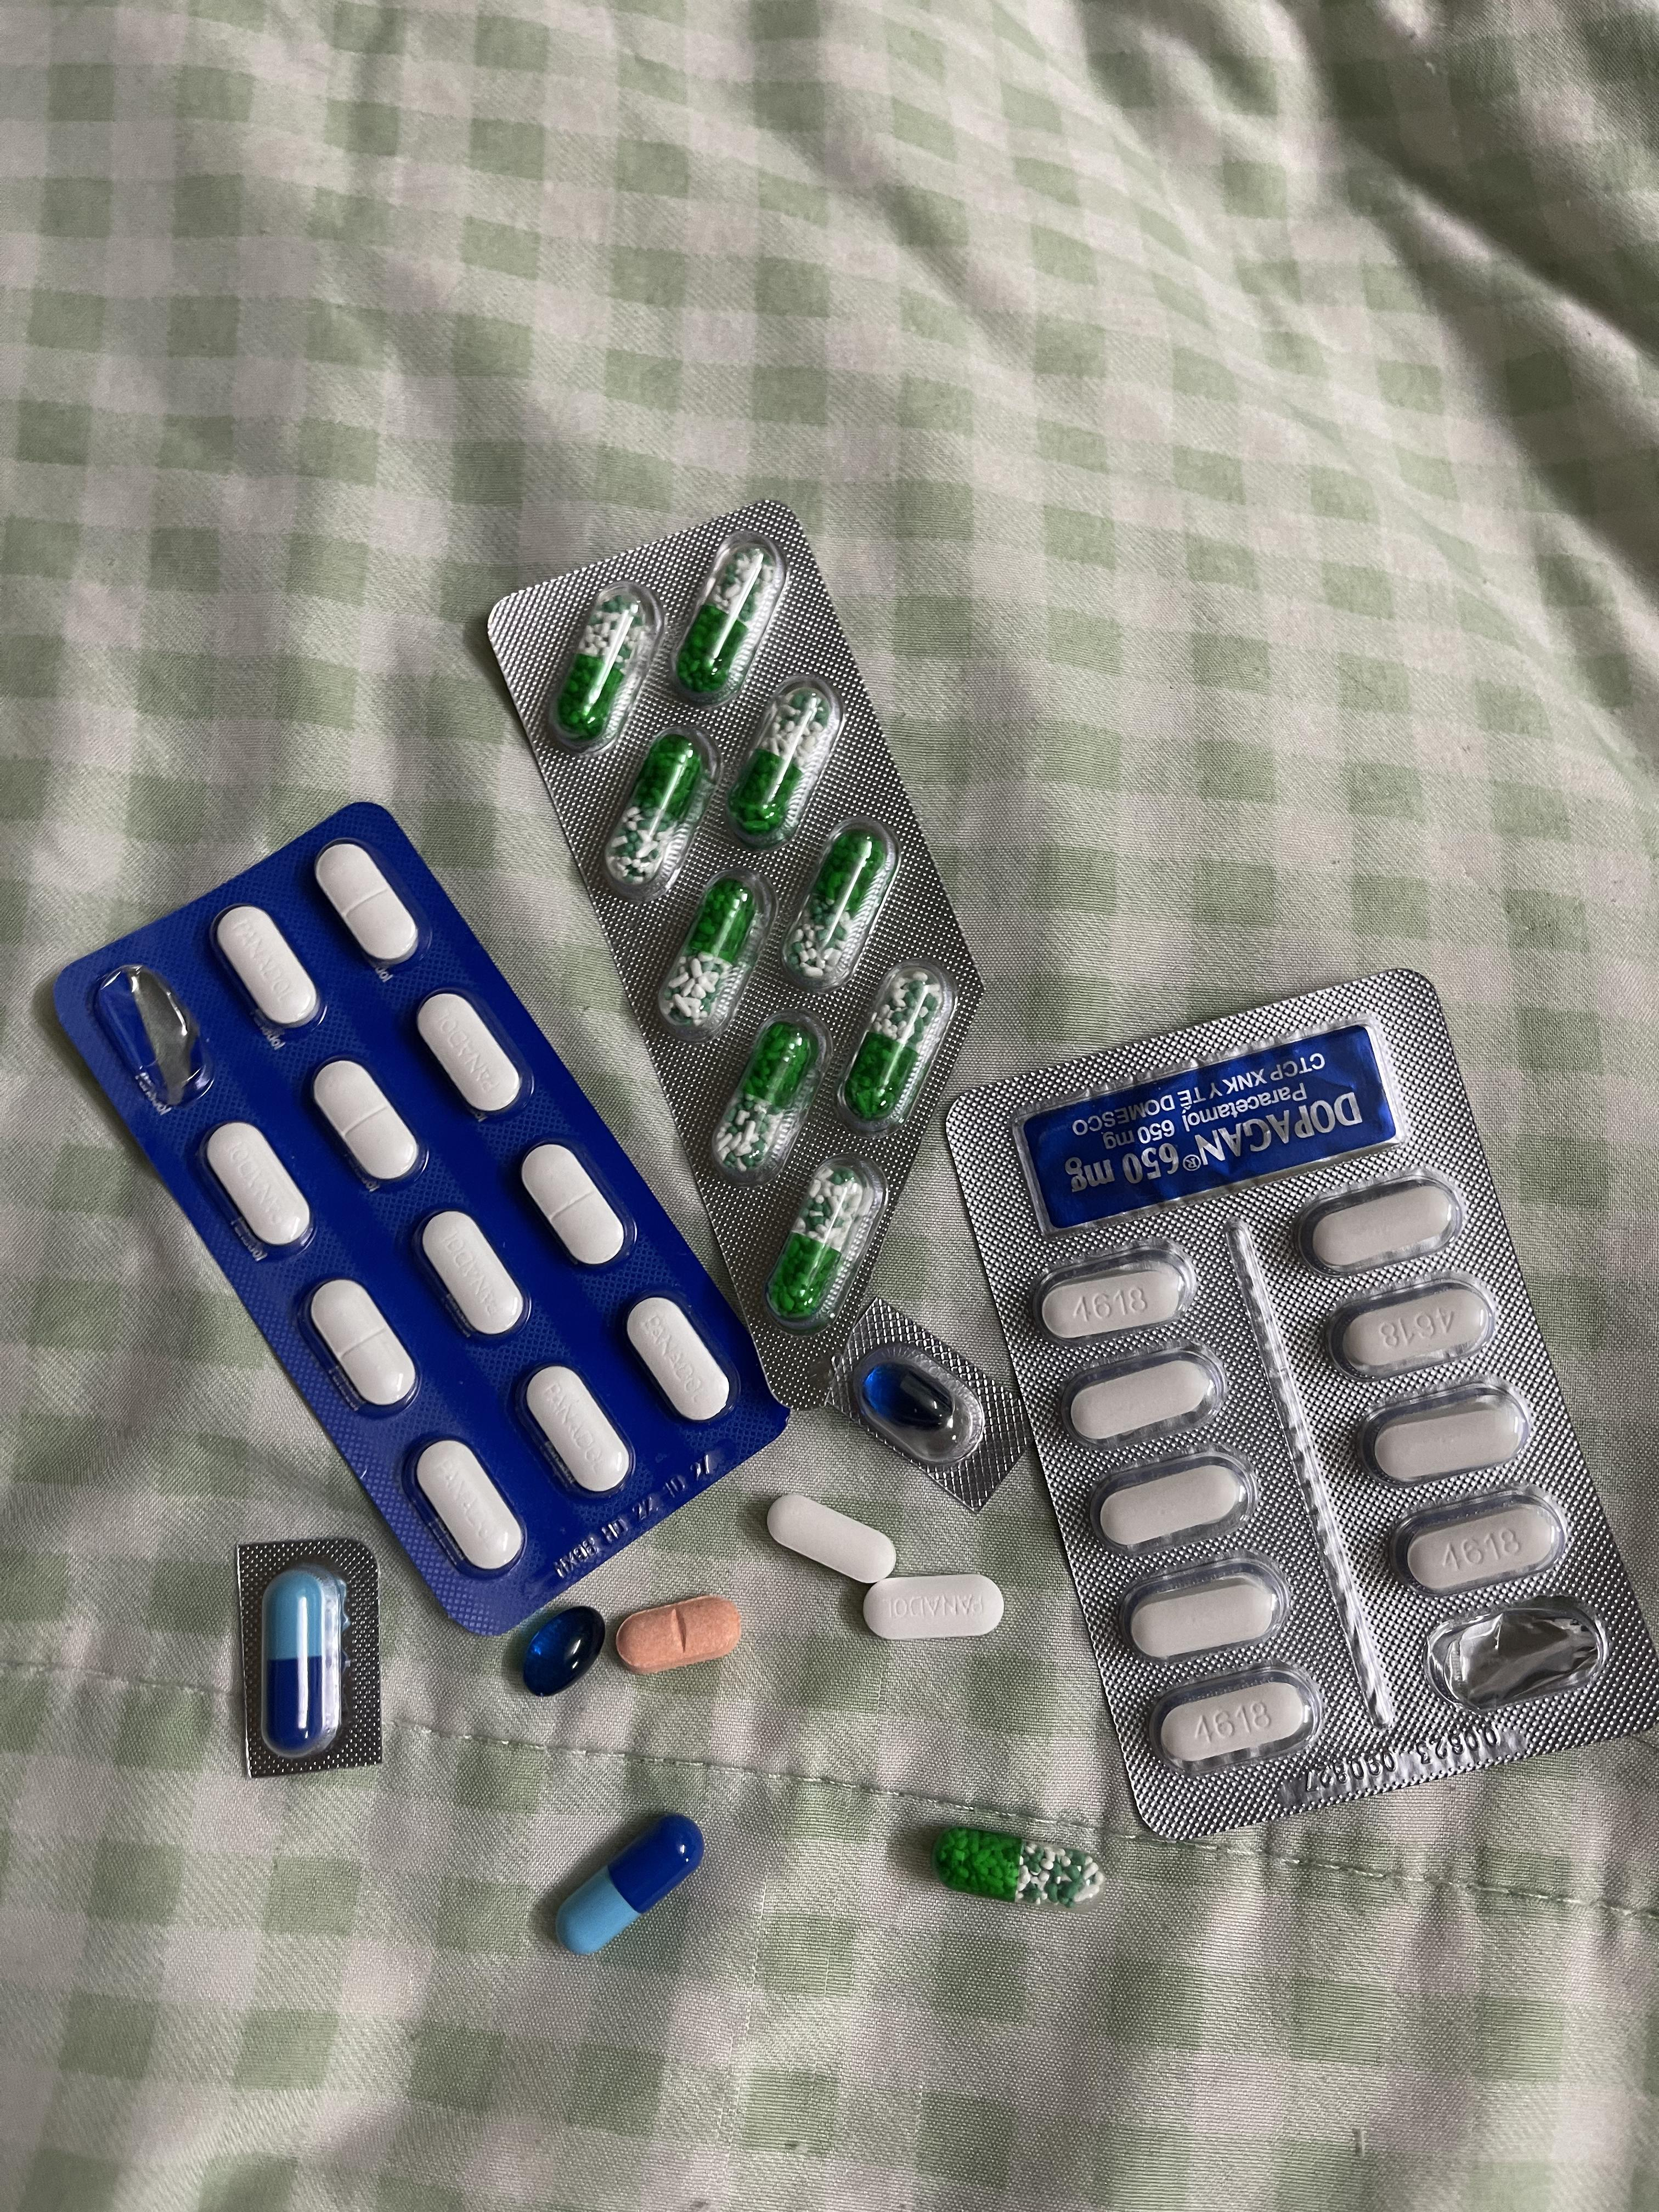Lincomyxin_500mg: (523, 1608, 608, 1698), (864, 1360, 953, 1435)
Loratadine_10mg: (617, 1595, 741, 1669)
Paracetamol_350mg: (406, 1439, 526, 1575), (519, 1367, 634, 1498), (307, 1280, 416, 1413), (312, 1057, 422, 1186), (415, 1211, 525, 1338), (416, 993, 526, 1120), (204, 1122, 310, 1252), (521, 1143, 629, 1268), (627, 1298, 734, 1425), (214, 906, 321, 1031), (317, 841, 422, 965), (866, 1571, 1004, 1639)
Paracetamol_500mg: (1358, 1379, 1537, 1486), (1389, 1484, 1568, 1590), (1089, 1442, 1251, 1555), (1330, 1273, 1500, 1376), (1124, 1552, 1288, 1658), (1032, 1238, 1188, 1343), (1063, 1345, 1220, 1446), (1302, 1183, 1459, 1270), (1161, 1681, 1307, 1770), (767, 1491, 889, 1585)
Paracetamol_650mg: (666, 531, 789, 709), (542, 578, 662, 754), (601, 723, 723, 890), (830, 961, 951, 1127), (720, 681, 836, 848), (650, 864, 770, 1026), (760, 1158, 878, 1320), (711, 1021, 828, 1183), (777, 827, 894, 989), (932, 1820, 1100, 1907)
pill: (552, 1811, 709, 1959), (261, 1566, 345, 1761)
